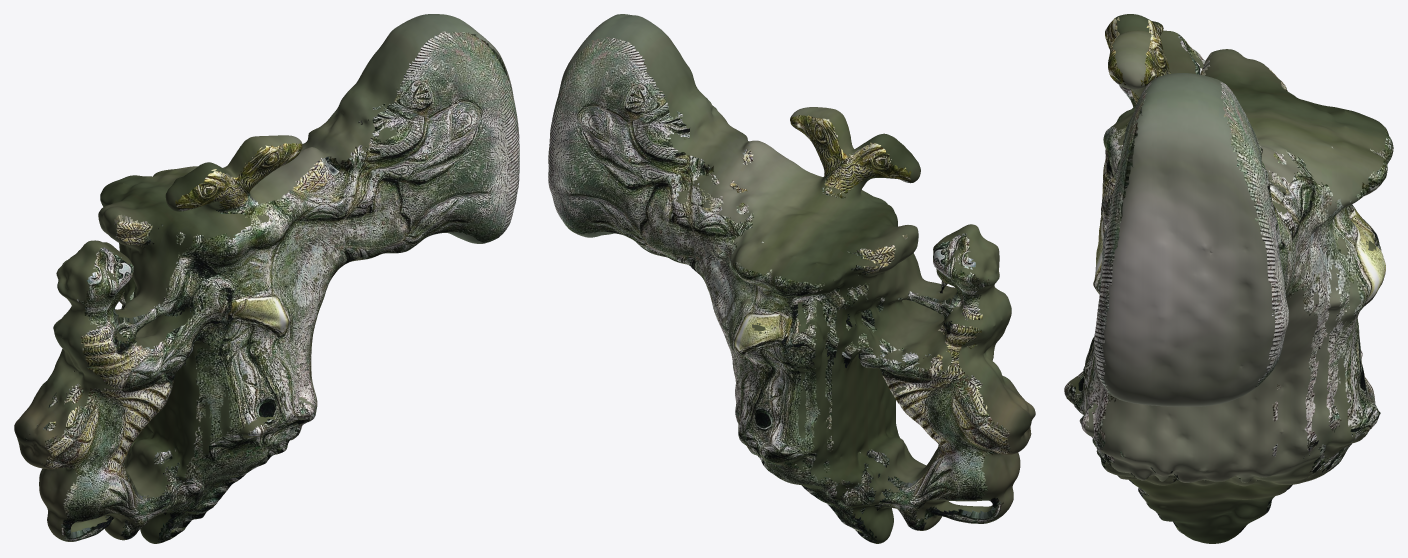
Rendered from ane-12.glb.
3 renders of one model, left to right at view 1: azimuth 30°, elevation 25°; view 2: azimuth 150°, elevation 25°; view 3: azimuth 270°, elevation 25°, orthographic. The views are drawn at different scales.
Parts seen in each view (by area): view 1: ane-12; view 2: ane-12; view 3: ane-12.
Part boxes in pixels (x1,y1,x2,y2): ane-12: (14, 14, 519, 543); ane-12: (548, 14, 1035, 543); ane-12: (1064, 14, 1393, 543).
Size of the model in its own units: 0.9961 by 0.9271 by 0.429.
4 materials, 4 textured.
